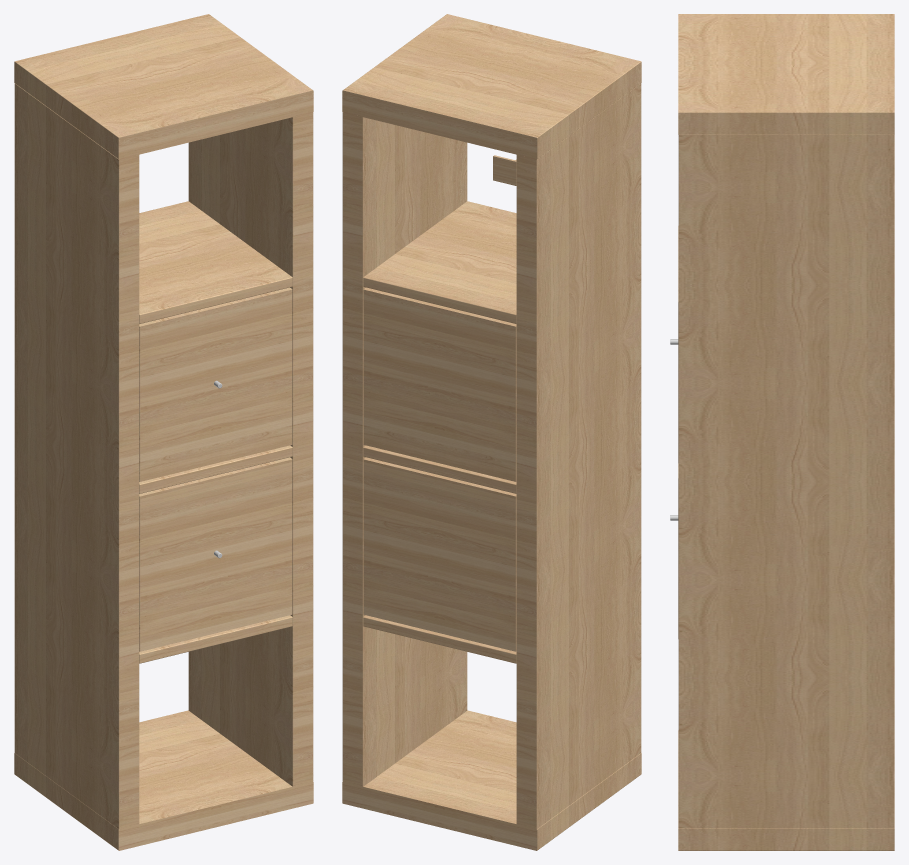
File: KALLAX_Shelf_with_2_Accessories_Bleached_Oak_effect.obj
3 views of the same model, side by side, from view 1: azimuth 30°, elevation 25°; view 2: azimuth 150°, elevation 25°; view 3: azimuth 270°, elevation 25° (orthographic). The views are drawn at different scales.
Parts seen in each view (by area): view 1: Rectangle002, Rectangle003, Rectangle001, Rectangle009, Rectangle013, Rectangle004, Rectangle005, Rectangle014, Rectangle015; view 2: Rectangle002, Rectangle003, Rectangle001, Rectangle009, Rectangle013, Rectangle004, Rectangle005, Rectangle014, Rectangle015, Line005; view 3: Rectangle003, Rectangle001, Rectangle004.
Part boxes in pixels (<box>): Rectangle002: <box>14,83,139,828</box>; Rectangle003: <box>188,112,313,786</box>; Rectangle001: <box>14,14,313,159</box>; Rectangle009: <box>139,287,292,481</box>; Rectangle013: <box>139,457,292,651</box>; Rectangle004: <box>14,710,313,850</box>; Rectangle005: <box>139,201,292,323</box>; Rectangle014: <box>139,445,292,493</box>; Rectangle015: <box>139,615,292,663</box>; Rectangle002: <box>516,83,641,828</box>; Rectangle003: <box>342,112,467,786</box>; Rectangle001: <box>342,14,641,159</box>; Rectangle009: <box>363,287,516,481</box>; Rectangle013: <box>363,457,516,651</box>; Rectangle004: <box>342,710,641,850</box>; Rectangle005: <box>363,201,516,323</box>; Rectangle014: <box>363,445,516,493</box>; Rectangle015: <box>363,615,516,663</box>; Line005: <box>493,155,516,185</box>; Rectangle003: <box>678,134,894,828</box>; Rectangle001: <box>678,14,894,134</box>; Rectangle004: <box>678,730,894,850</box>.
Bounding box in the file's own units: 420 × 1470 × 405.
